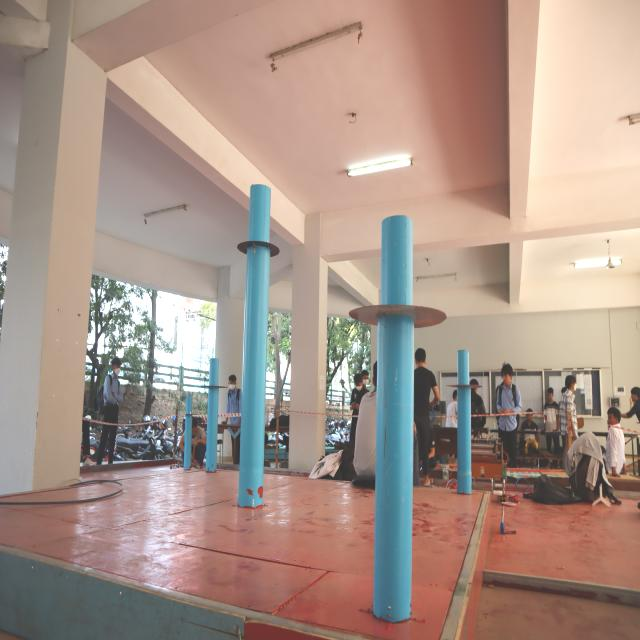pole: (342, 215, 444, 383), (228, 186, 284, 276), (448, 347, 482, 407), (204, 350, 228, 402)
